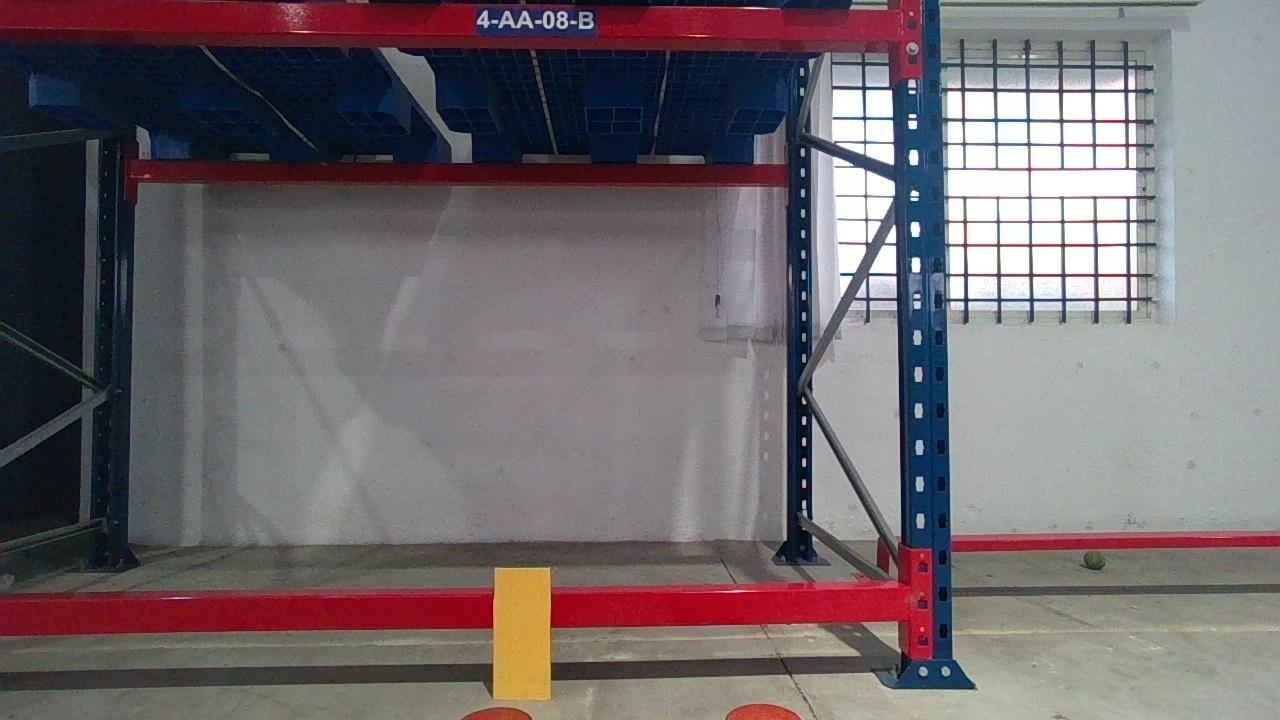h_rack: (0, 590, 916, 631), (4, 3, 902, 43)
orange_strip: (492, 568, 550, 698)
